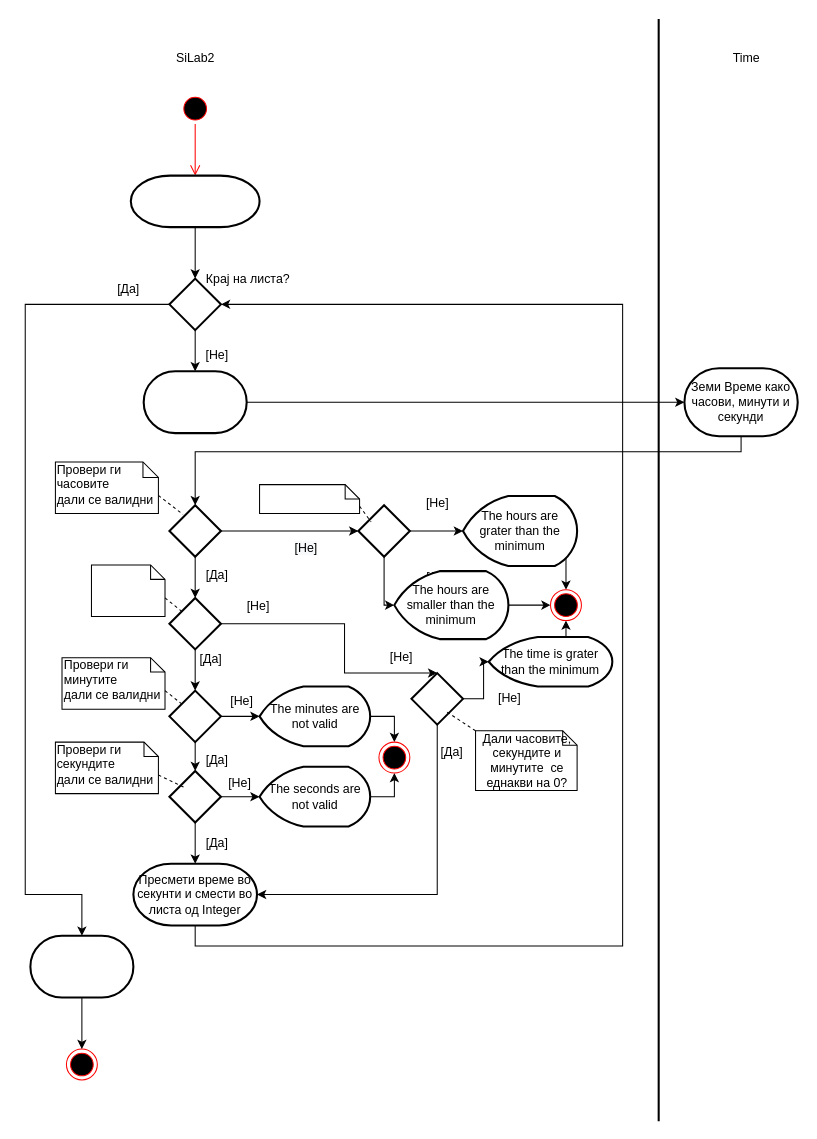
The diagram is 817 pixels wide and 1139 high, and some of its shapes have lost their labels. The shapes that lost their labels are listed below. From the top down, each one's centre as x and y in pixels, then its label:
At point (194, 201): "Листа од класата Time".
At point (194, 402): "Елемет од листа (Објект Time)".
At point (309, 498): "Дали часовите се негативни?".
At point (127, 590): "Дали часовите се под 24?".
At point (81, 966): "Печати листа од времиња".
